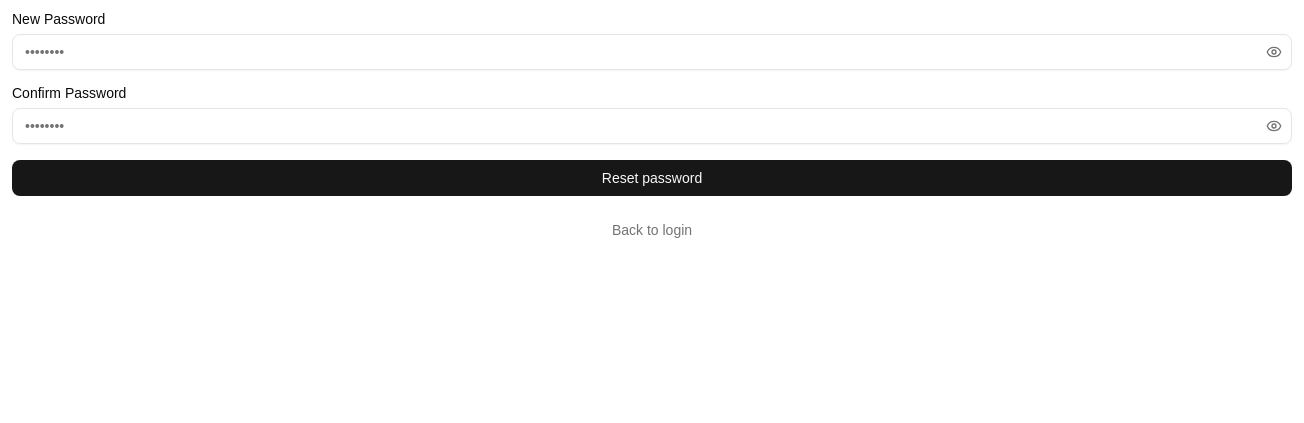
Scenario: ResetPasswordForm › should show password requirements when user types password
Type "P" into the password field labelled "New Password" at point(652, 52), box x1=12 y1=34 x2=1292 y2=70
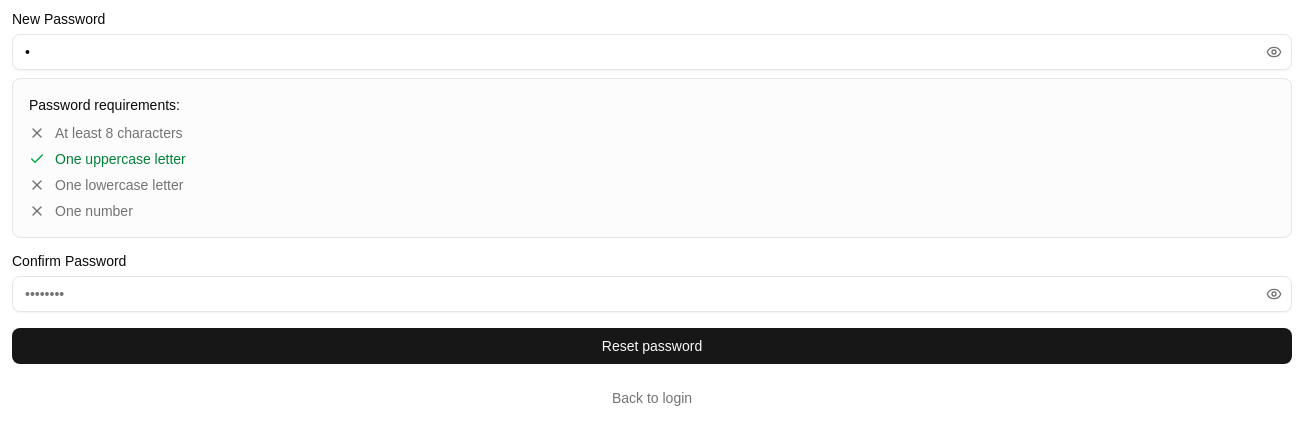
Now the text "At least 8 characters" is shown, box x1=55 y1=123 x2=183 y2=143
